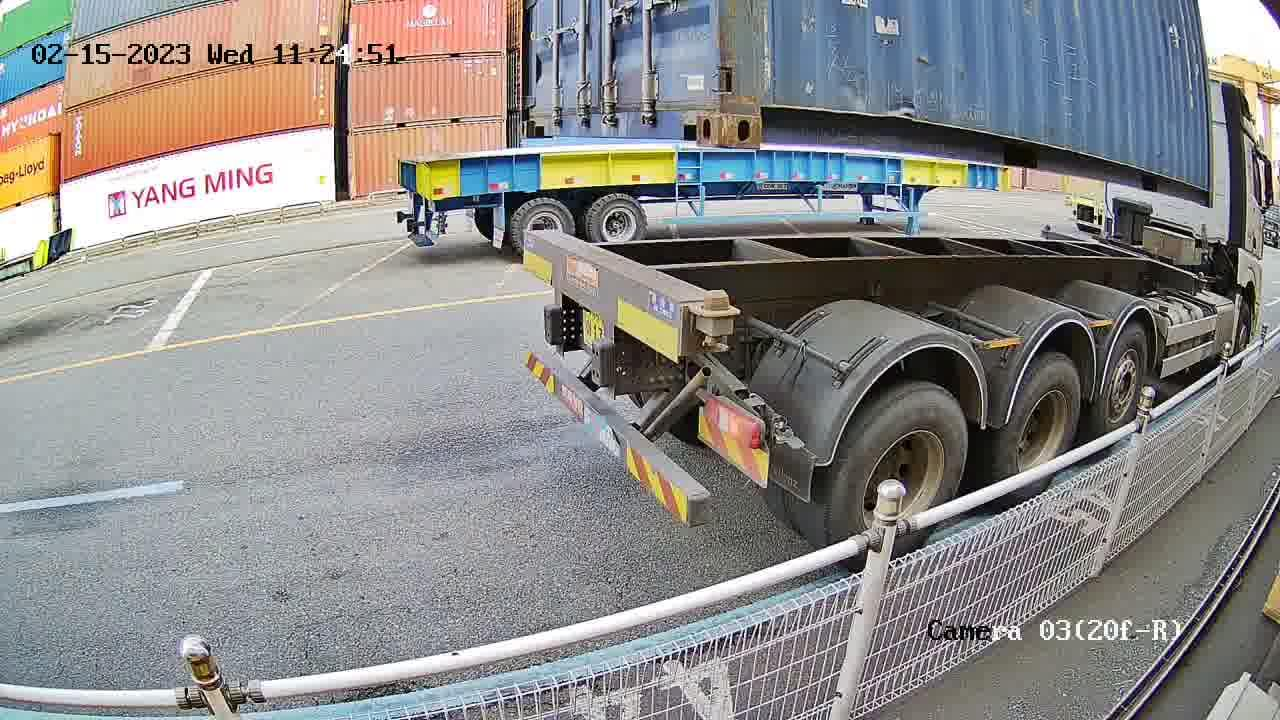Chassis: (518, 229, 694, 367)
Cone: (697, 287, 740, 354)
Hole_L: (719, 73, 800, 146), (518, 91, 557, 139)
Hole_R: (662, 72, 717, 142)
Tire: (826, 384, 972, 538), (1000, 358, 1082, 482), (1099, 327, 1148, 433)
